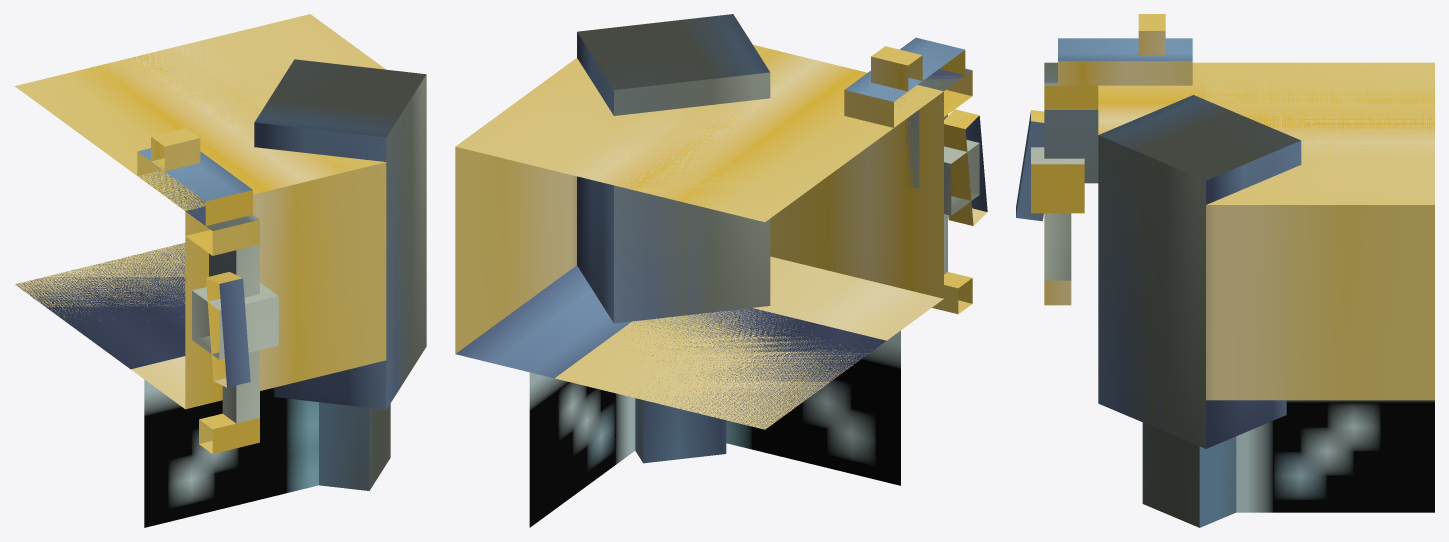
3 renders of one model, left to right at view 1: azimuth 30°, elevation 25°; view 2: azimuth 150°, elevation 25°; view 3: azimuth 270°, elevation 25°, orthographic. The views are drawn at different scales.
Parts seen in each view (by area): view 1: frame; view 2: frame; view 3: frame.
Part boxes in pixels (<box>): frame: <box>15,14,426,527</box>; frame: <box>455,14,987,527</box>; frame: <box>1016,14,1434,527</box>.
Size of the model in its own units: 0.7812 by 1 by 0.972.
